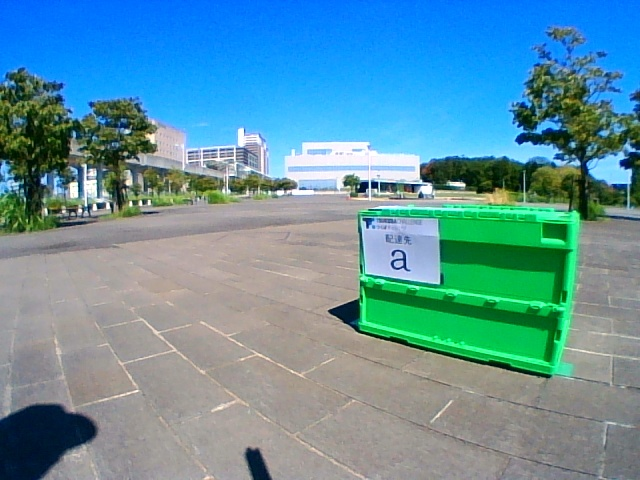green_box: (357, 204, 579, 377)
tag_a: (367, 220, 435, 275)
